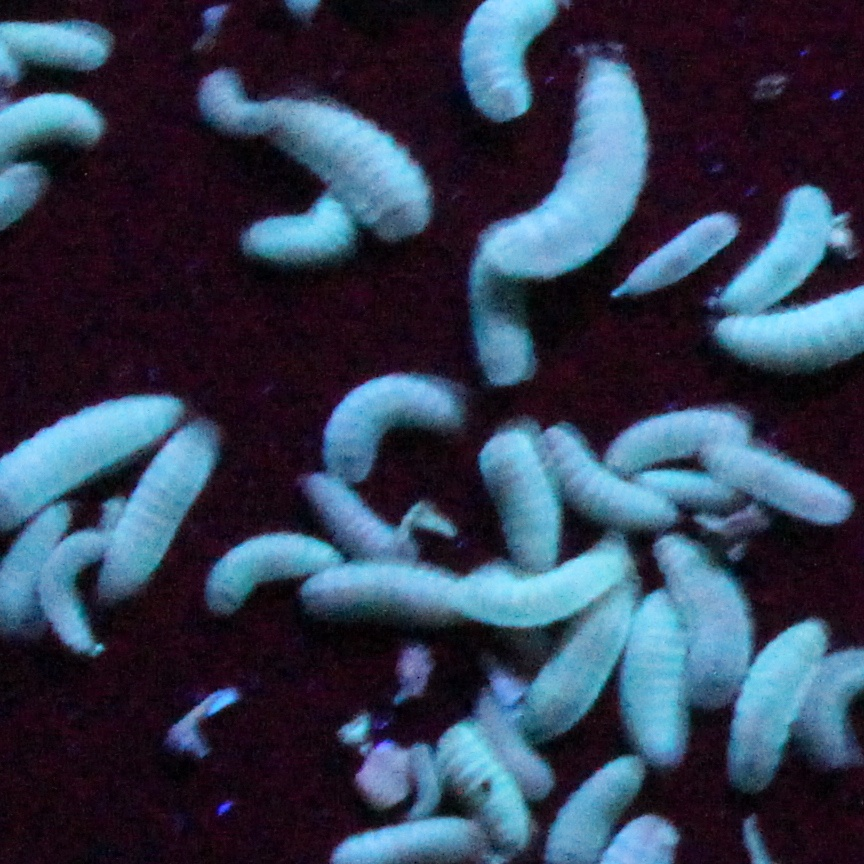larve: (487, 59, 645, 271), (213, 78, 423, 225), (103, 428, 227, 602), (330, 369, 464, 479), (715, 187, 831, 312), (728, 626, 819, 784), (661, 541, 744, 701), (703, 437, 848, 527), (622, 595, 696, 765), (527, 606, 627, 730), (542, 432, 673, 526), (610, 208, 740, 297), (438, 727, 532, 846), (476, 438, 565, 563), (482, 547, 631, 619), (303, 572, 466, 632), (213, 533, 329, 614), (604, 405, 744, 470), (44, 532, 111, 659), (475, 266, 543, 383), (309, 475, 406, 555), (247, 204, 352, 272), (7, 19, 108, 68)
